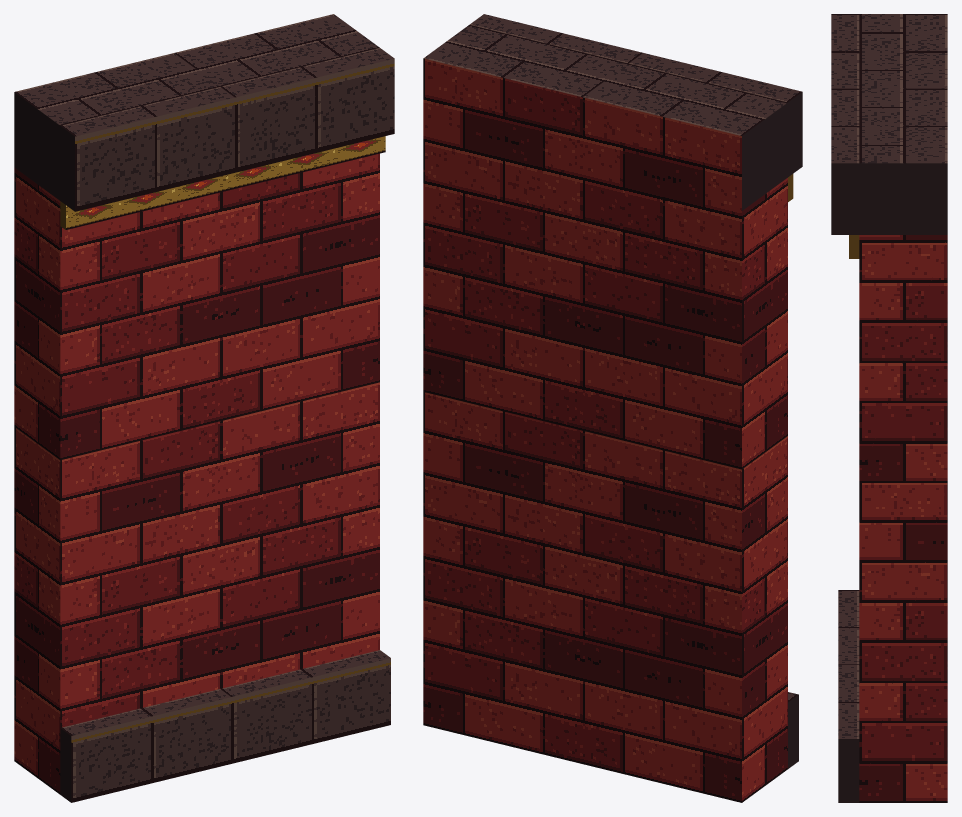
File: ch_wall_straight.glb
3 views of the same model, side by side, from view 1: azimuth 30°, elevation 25°; view 2: azimuth 150°, elevation 25°; view 3: azimuth 270°, elevation 25° (orthographic). The views are drawn at different scales.
Visible parts, largest first — view 1: ch_wall_straight_mesh; view 2: ch_wall_straight_mesh; view 3: ch_wall_straight_mesh.
Boxes of the visible parts, x1=… form: ch_wall_straight_mesh: x1=14, y1=14, x2=394, y2=802; ch_wall_straight_mesh: x1=423, y1=14, x2=802, y2=802; ch_wall_straight_mesh: x1=831, y1=14, x2=947, y2=802.
Size of the model in its own units: 2 by 4 by 0.66.
1 material, 1 textured.
